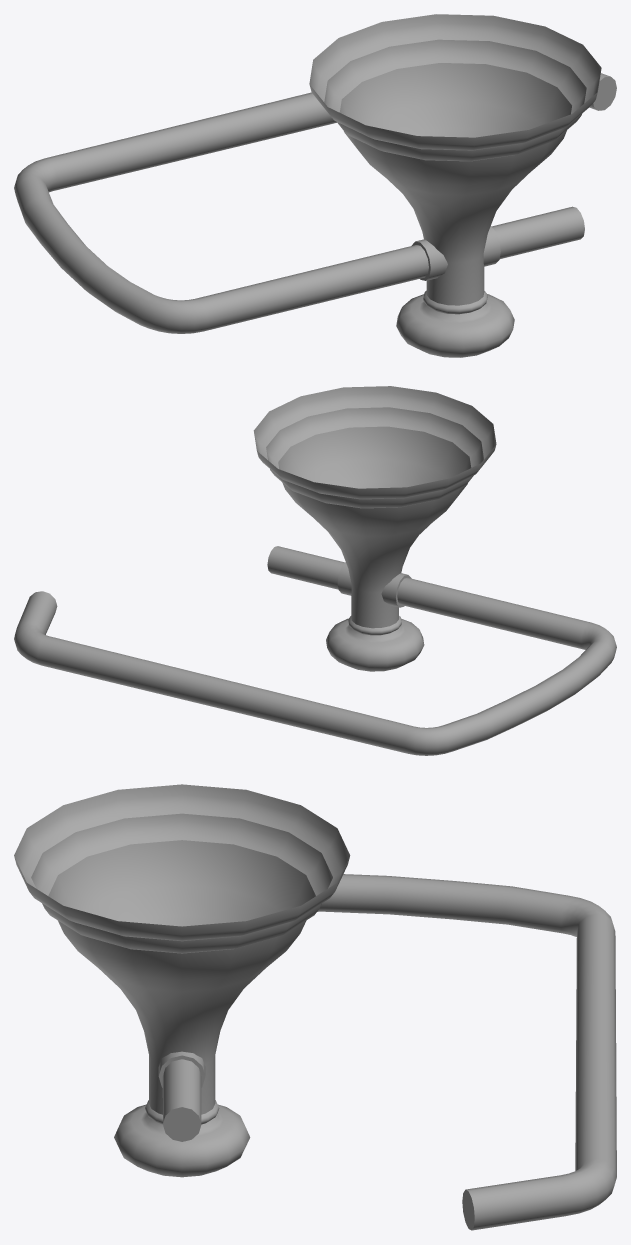
The model's file is ToiletPaperHanger_16_ToiletPaperHanger_16_0.obj.
3 renders of one model, top to bottom at view 1: azimuth 30°, elevation 25°; view 2: azimuth 150°, elevation 25°; view 3: azimuth 270°, elevation 25°, orthographic. The views are drawn at different scales.
Parts seen in each view (by area): view 1: ToiletPaperHanger_16; view 2: ToiletPaperHanger_16; view 3: ToiletPaperHanger_16.
Boxes of the visible parts, <box> form: ToiletPaperHanger_16: <box>14,14,616,357</box>; ToiletPaperHanger_16: <box>14,386,616,755</box>; ToiletPaperHanger_16: <box>14,784,616,1230</box>.
Bounding box in the file's own units: 0.1852 × 0.0779 × 0.1413.
